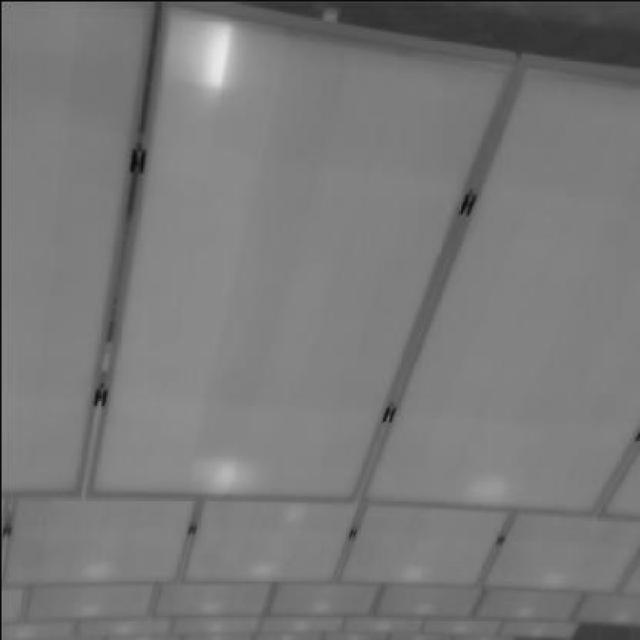hotspot: (158, 12, 234, 90)
